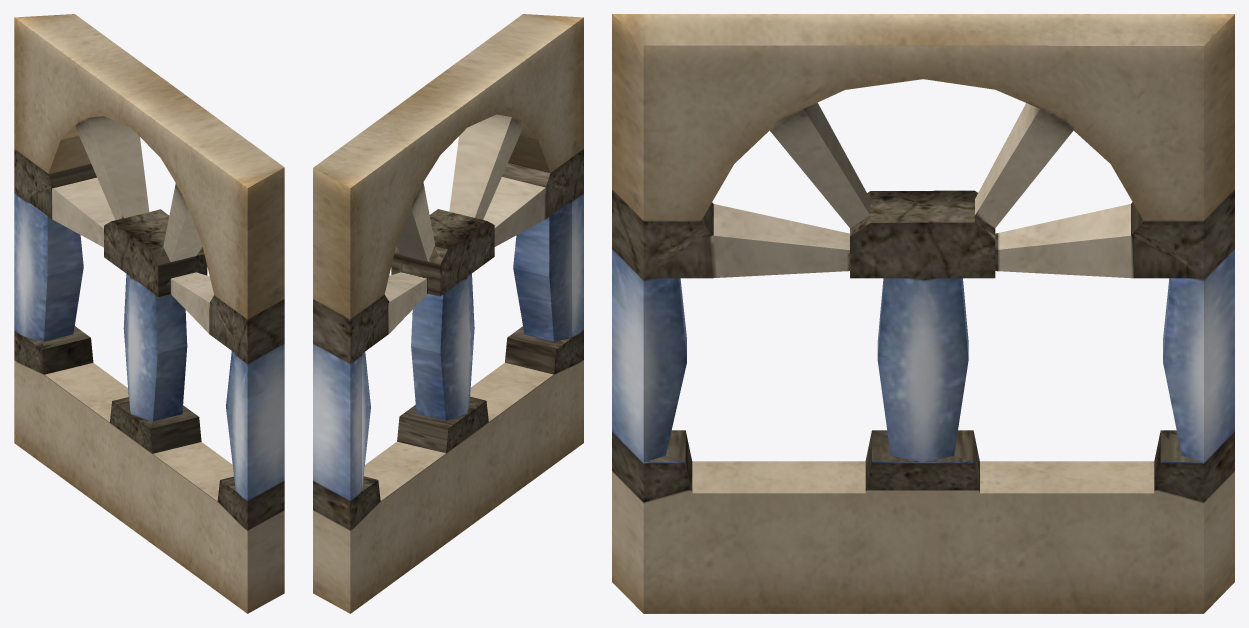
Rendered from P_Modul_03_Wall04.obj.
The picture shows the model from 3 angles, left to right: view 1: azimuth 30°, elevation 25°; view 2: azimuth 150°, elevation 25°; view 3: azimuth 270°, elevation 25°; orthographic projection. The views are drawn at different scales.
Visible parts, largest first — view 1: P_Modul_03_Wall04; view 2: P_Modul_03_Wall04; view 3: P_Modul_03_Wall04.
Part boxes in pixels (x1,y1,x2,y2): P_Modul_03_Wall04: (14,14,284,613); P_Modul_03_Wall04: (313,14,583,613); P_Modul_03_Wall04: (612,14,1234,613).
Size of the model in its own units: 0.8764 by 7.28 by 7.23.
